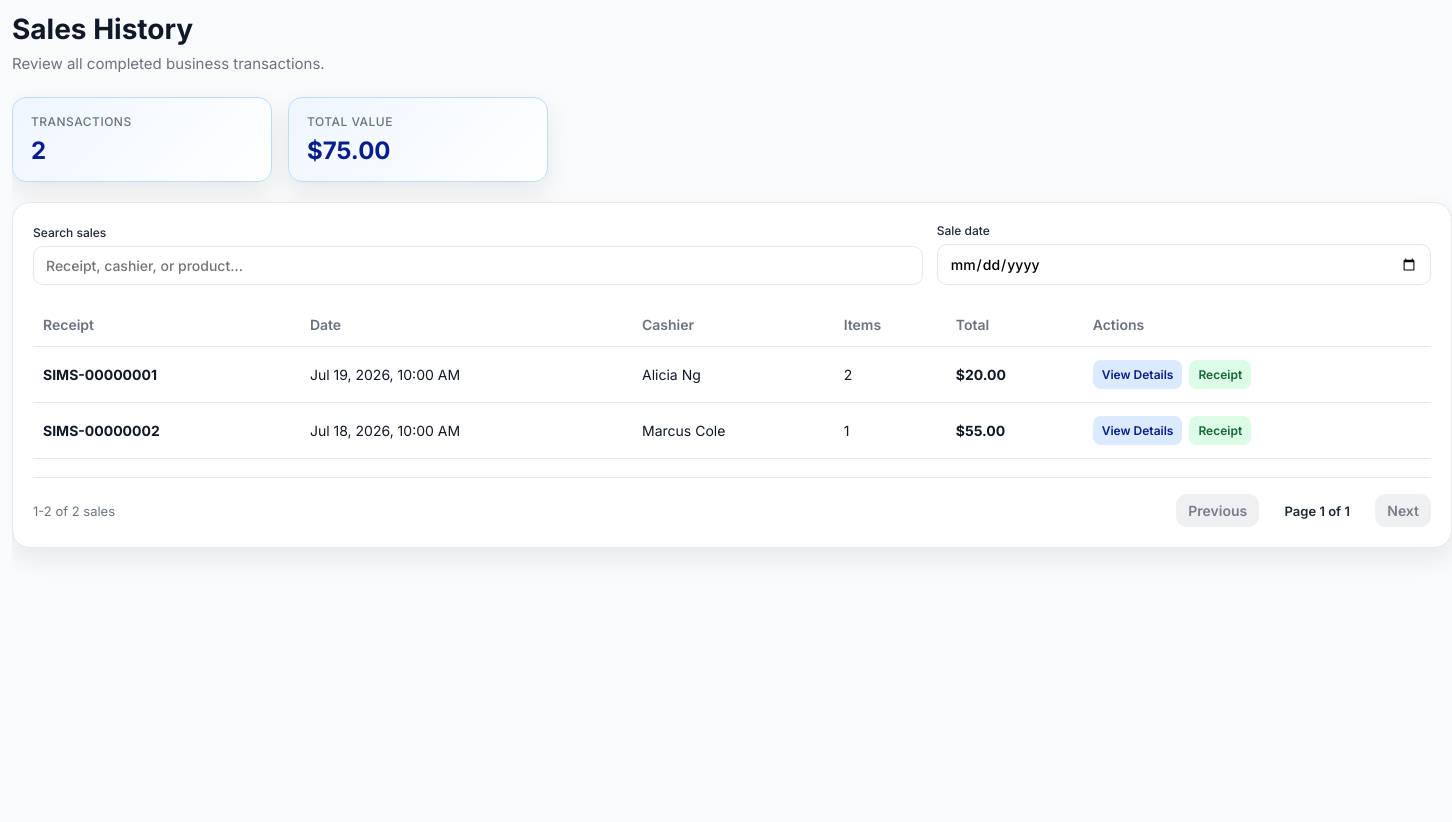
Test: SalesHistory › shows all sales to a manager and expands details
This screenshot has width=1452, height=822.
Expected: the text "SIMS-00000001" is shown, [43, 366, 157, 383]
Expected: the text "SIMS-00000002" is shown, [43, 422, 160, 439]
Click the button "View Details" in the row of "SIMS-00000001": (1138, 374) [1093, 360, 1182, 389]
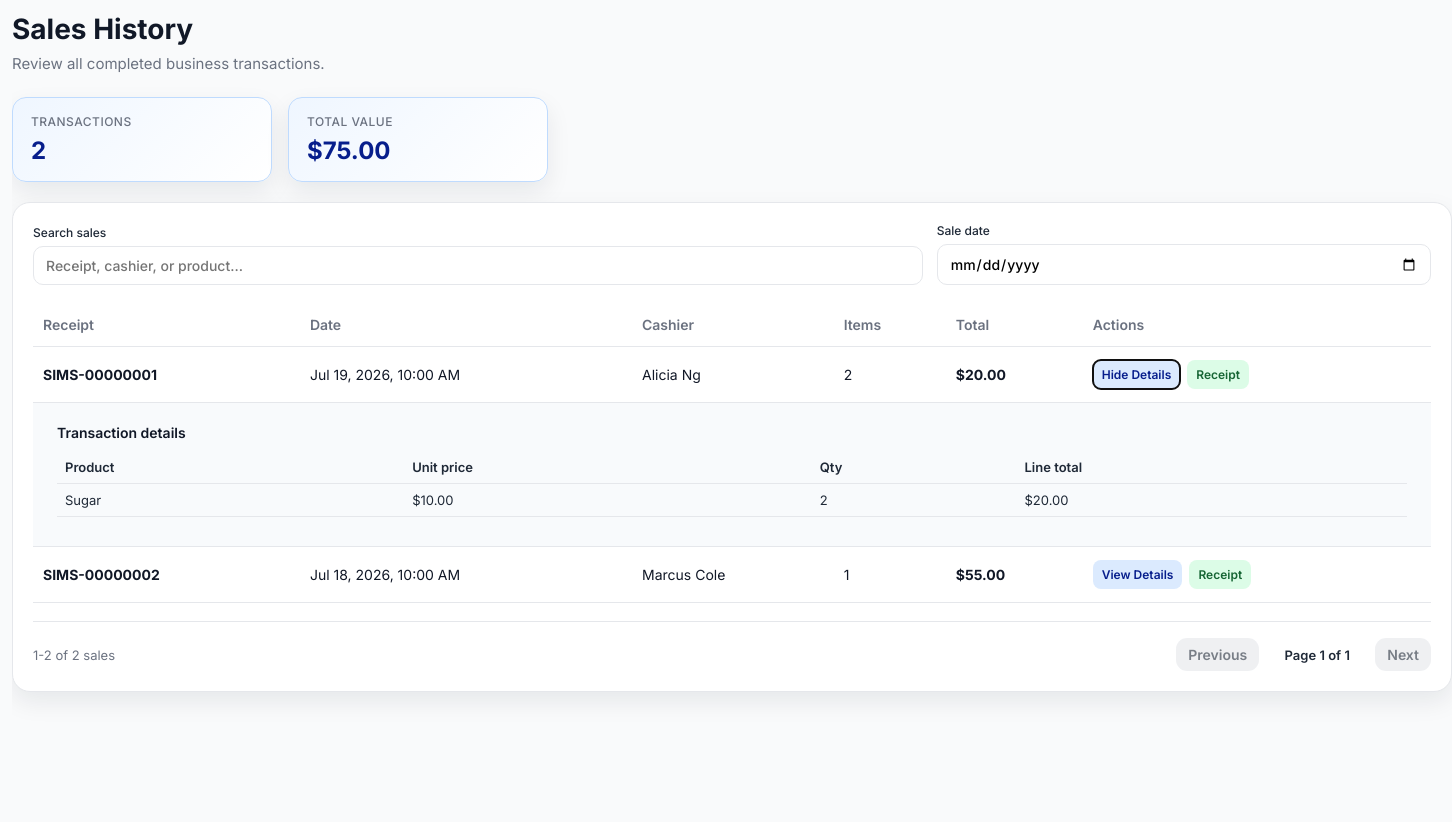
Expected: the heading "Transaction details" is shown, [57, 424, 186, 441]
Expected: the text "$10.00" is shown, [404, 484, 812, 516]
